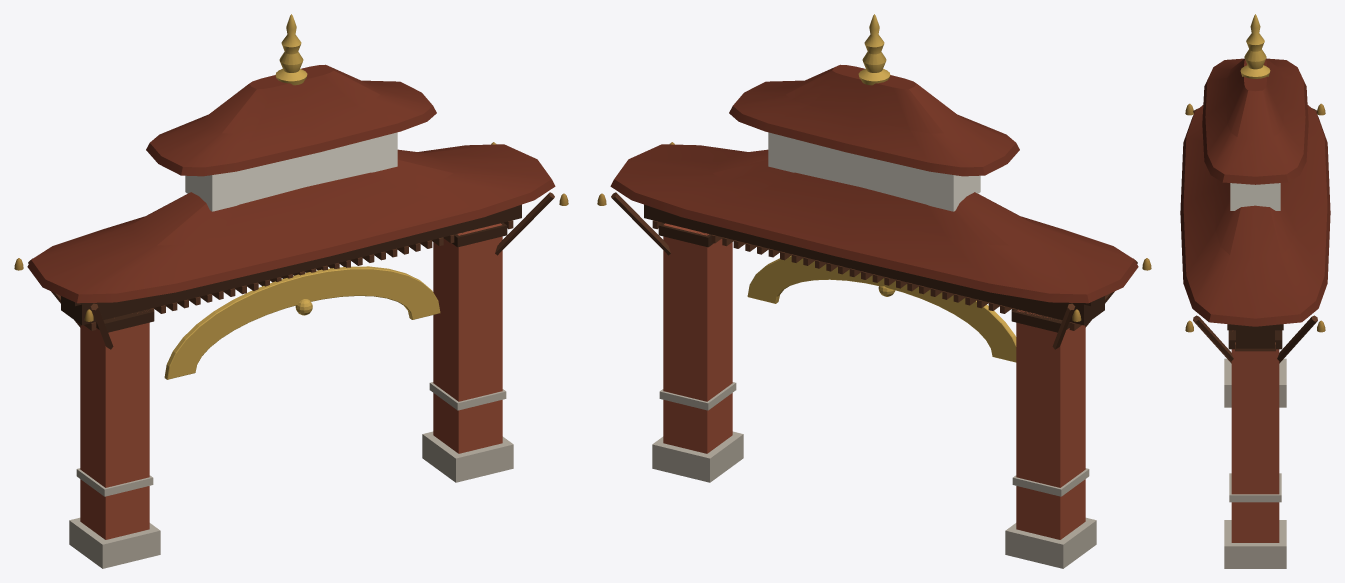
File: gate.glb
3 views of the same model, side by side, from view 1: azimuth 30°, elevation 25°; view 2: azimuth 150°, elevation 25°; view 3: azimuth 270°, elevation 25° (orthographic). The views are drawn at different scales.
Parts seen in each view (by area): view 1: tile17, tile20, brick5, brick1, gilt11, white18, timber8, stone4, stone0, gilt21, stone6, stone2 (+1 smaller); view 2: tile17, tile20, brick5, brick1, white18, timber8, gilt11, stone4, stone0, gilt21, stone6, stone2 (+1 smaller); view 3: tile17, tile20, brick5, stone4, white18, gilt21, stone0, timber8, stone6, carving15, carving16, timber10 (+1 smaller).
Boxes of the visible parts, bbox=[...] form: tile17: bbox=[27, 144, 555, 303]; tile20: bbox=[146, 64, 436, 176]; brick5: bbox=[433, 223, 502, 453]; brick1: bbox=[80, 313, 149, 539]; gilt11: bbox=[164, 266, 440, 379]; white18: bbox=[185, 132, 397, 211]; timber8: bbox=[61, 204, 521, 325]; stone4: bbox=[422, 431, 513, 482]; stone0: bbox=[69, 517, 160, 568]; gilt21: bbox=[275, 14, 307, 85]; stone6: bbox=[429, 382, 506, 410]; stone2: bbox=[76, 468, 153, 496]; tile17: bbox=[610, 144, 1138, 303]; tile20: bbox=[729, 64, 1019, 176]; brick5: bbox=[663, 223, 732, 453]; brick1: bbox=[1016, 309, 1085, 539]; white18: bbox=[768, 132, 980, 211]; timber8: bbox=[644, 204, 1104, 325]; gilt11: bbox=[747, 255, 1016, 362]; stone4: bbox=[652, 431, 743, 482]; stone0: bbox=[1005, 517, 1096, 568]; gilt21: bbox=[858, 14, 890, 85]; stone6: bbox=[659, 382, 736, 410]; stone2: bbox=[1012, 468, 1089, 496]; tile17: bbox=[1180, 105, 1330, 326]; tile20: bbox=[1202, 58, 1308, 184]; brick5: bbox=[1231, 349, 1279, 542]; stone4: bbox=[1224, 520, 1286, 568]; white18: bbox=[1230, 183, 1280, 210]; gilt21: bbox=[1240, 14, 1270, 78]; stone0: bbox=[1224, 358, 1286, 407]; timber8: bbox=[1236, 330, 1274, 348]; stone6: bbox=[1229, 473, 1281, 502]; carving15: bbox=[1277, 315, 1317, 363]; carving16: bbox=[1193, 315, 1233, 363]; timber10: bbox=[1227, 324, 1283, 330].
Size of the model in its own units: 8.6 by 8.13 by 2.4.
